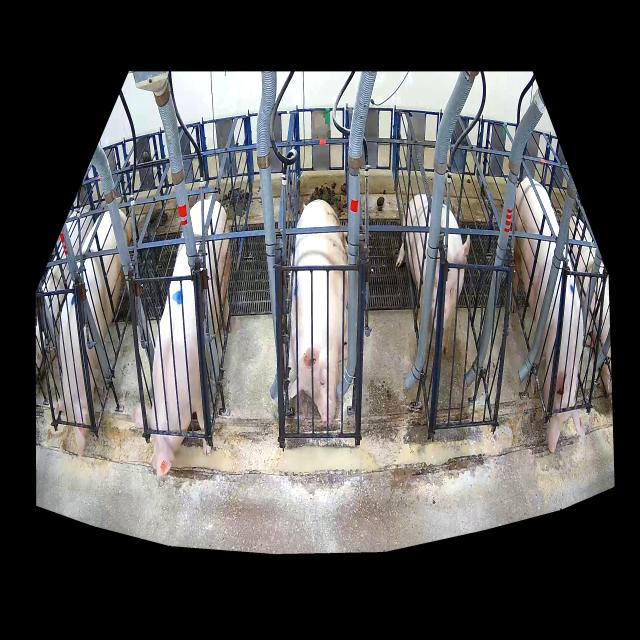pig: (130, 199, 230, 478), (512, 177, 584, 452), (56, 209, 132, 455), (290, 199, 348, 427), (396, 194, 470, 354)
